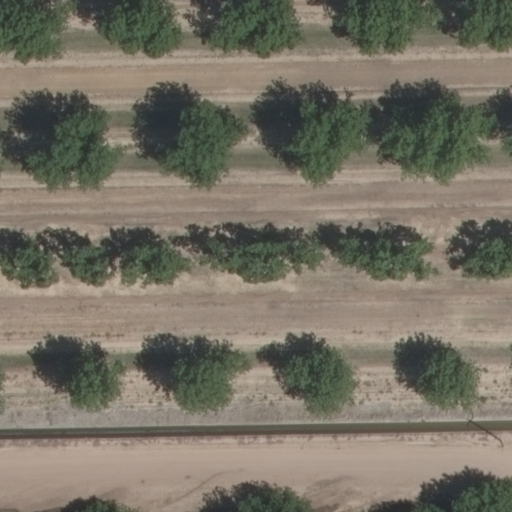DT: (485, 427, 509, 450)
